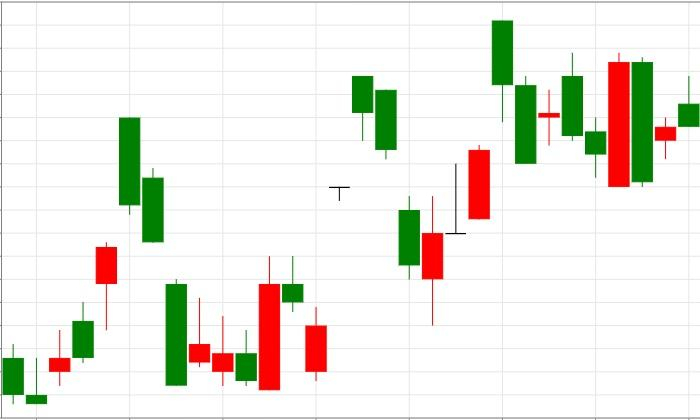bullish_engulfing_rise: (118, 117, 281, 391), (491, 20, 630, 188)
